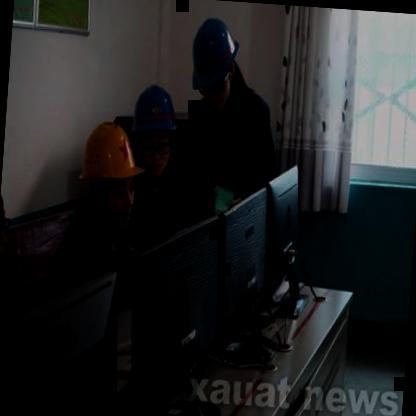helmet: (74, 116, 145, 235), (182, 8, 244, 120), (124, 79, 185, 191)
